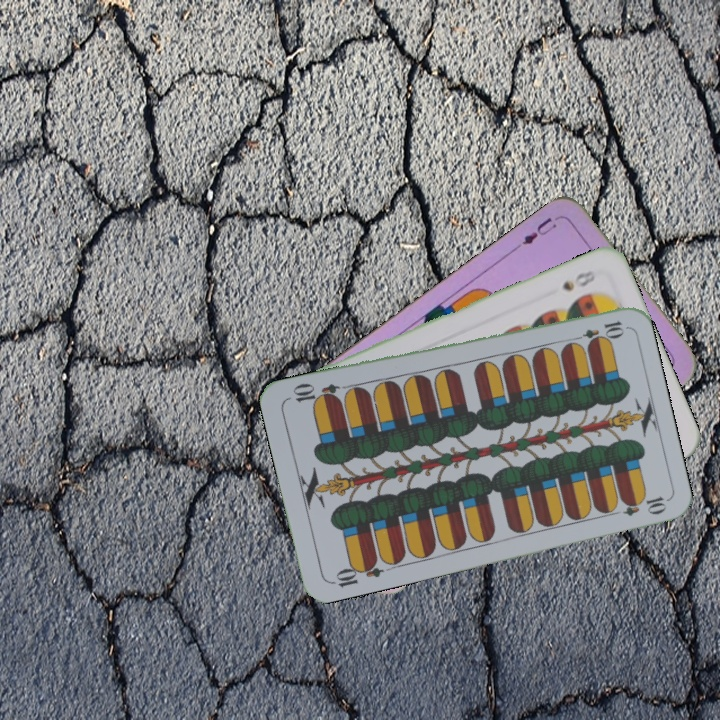E10: (327, 555, 385, 590), (568, 316, 627, 346)
EU: (517, 211, 564, 248)
S8: (558, 266, 598, 294)
